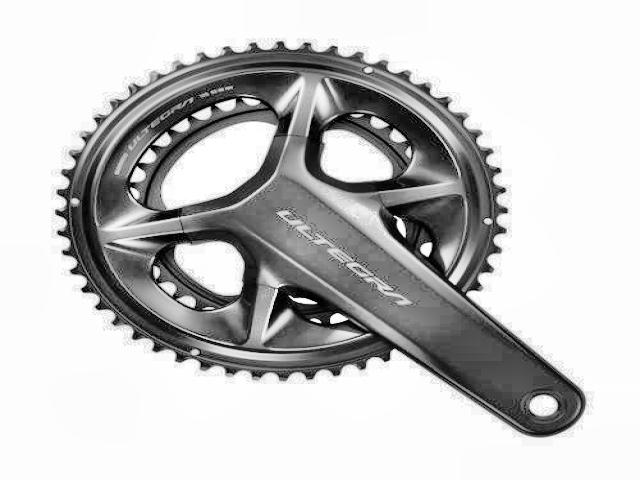cranks_set: (49, 38, 589, 442)
